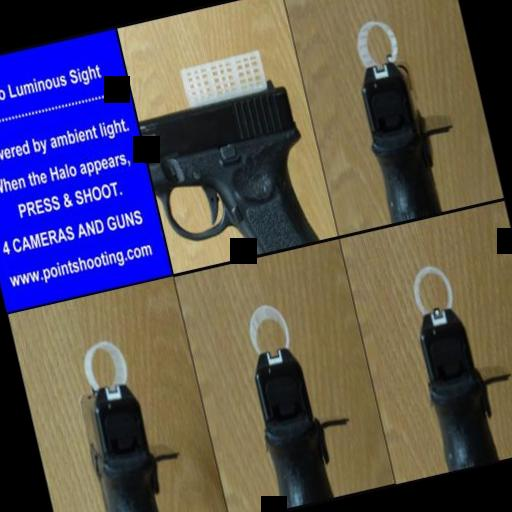Handgun: (137, 84, 323, 270), (244, 329, 364, 506), (350, 44, 468, 222), (406, 289, 512, 471), (70, 366, 187, 512)
